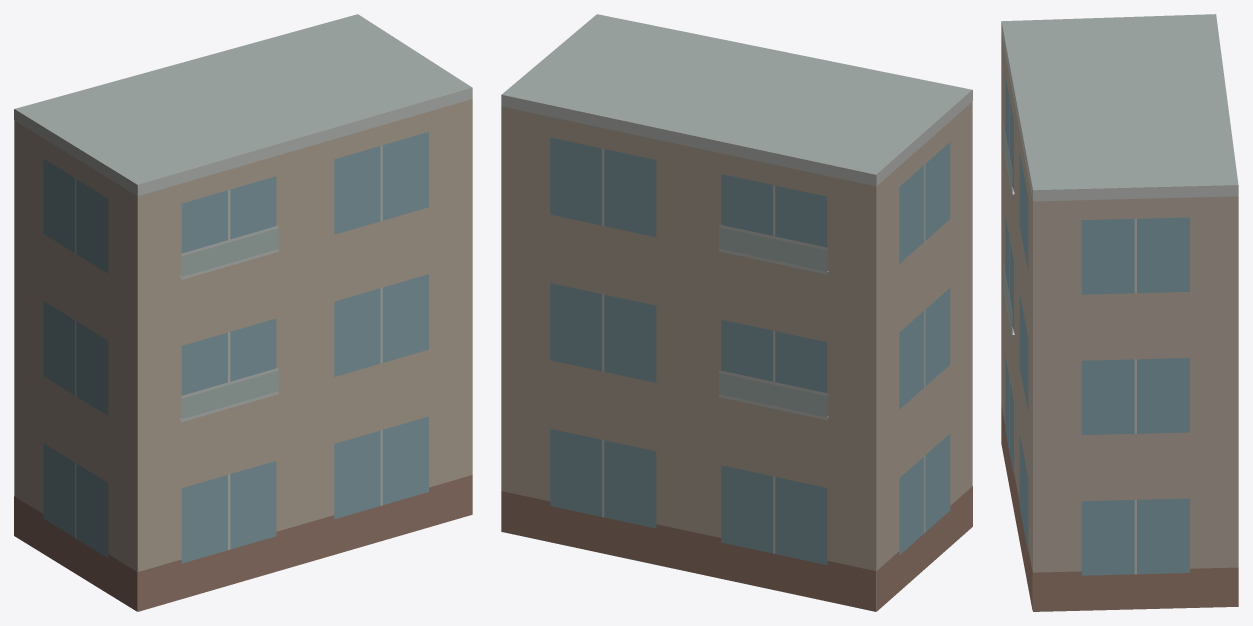
File: survey-upis-32623164.glb
3 views of the same model, side by side, from view 1: azimuth 30°, elevation 25°; view 2: azimuth 150°, elevation 25°; view 3: azimuth 270°, elevation 25° (orthographic). The views are drawn at different scales.
Visible parts, largest first — view 1: survey-upis-32623164.tmp; view 2: survey-upis-32623164.tmp; view 3: survey-upis-32623164.tmp.
Boxes of the visible parts, x1,y1,x2,y2 form: survey-upis-32623164.tmp: (14, 14, 472, 611); survey-upis-32623164.tmp: (501, 14, 972, 611); survey-upis-32623164.tmp: (1001, 14, 1238, 611).
Bounding box in the file's own units: 8.21 × 9.15 × 4.67.
